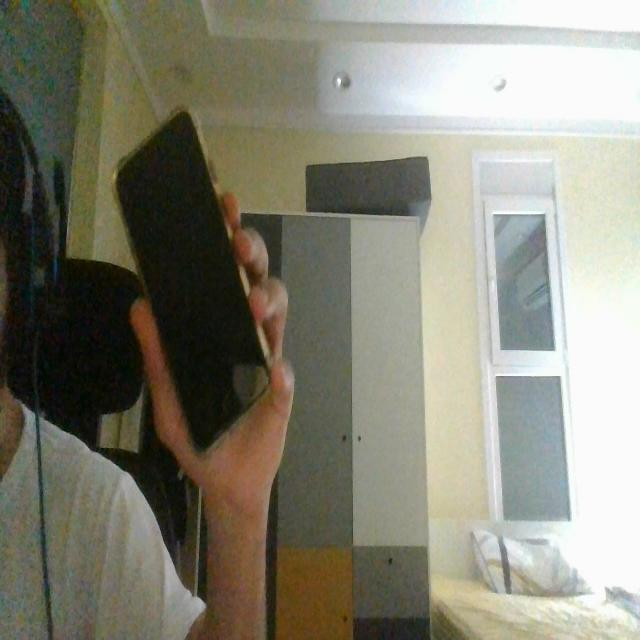Phone: (115, 104, 278, 465)
